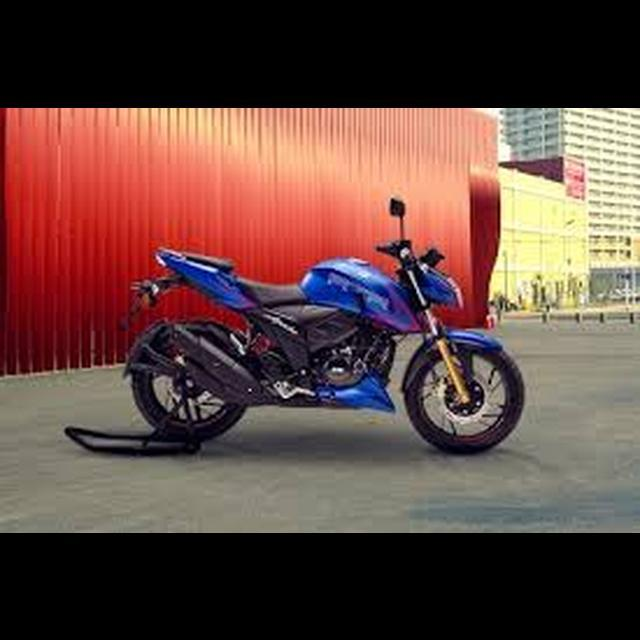motorcycle: (121, 191, 531, 458)
